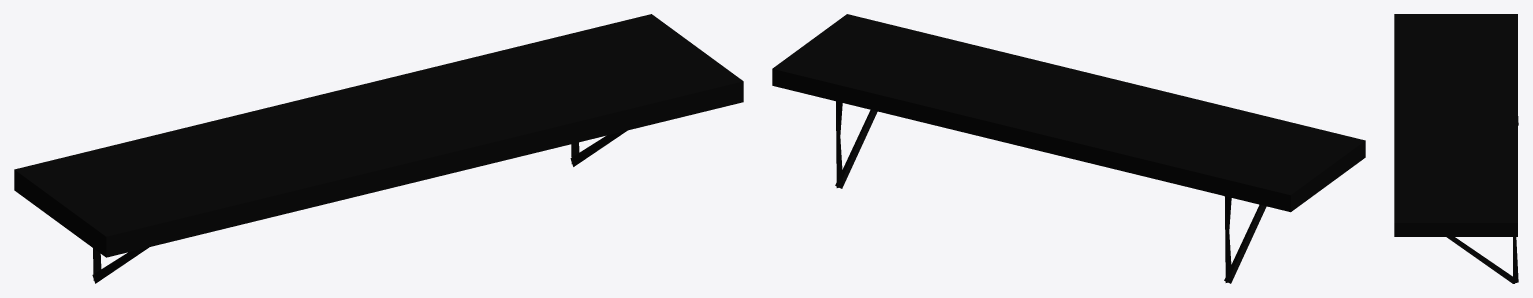
Rendered from SM_wall_shelf.fbx.
The picture shows the model from 3 angles, left to right: view 1: azimuth 30°, elevation 25°; view 2: azimuth 150°, elevation 25°; view 3: azimuth 270°, elevation 25°; orthographic projection. The views are drawn at different scales.
Parts seen in each view (by area): view 1: wall_shelf; view 2: wall_shelf; view 3: wall_shelf.
Boxes of the visible parts, box(x1,y1,x2,y2) form: wall_shelf: box(14, 14, 743, 283); wall_shelf: box(772, 14, 1365, 283); wall_shelf: box(1394, 14, 1518, 283).
Size of the model in its own units: 0.8 by 0.1566 by 0.201.
